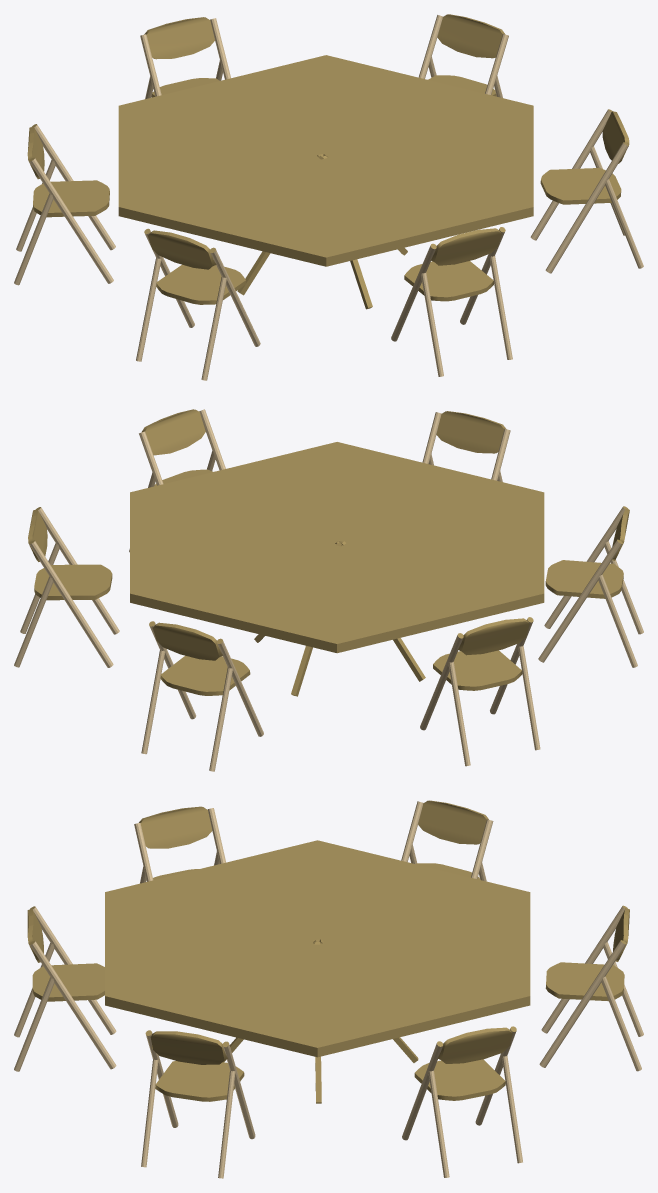
The model's file is HexTableSeated.fbx.
3 views of the same model, one above another, from view 1: azimuth 30°, elevation 25°; view 2: azimuth 150°, elevation 25°; view 3: azimuth 270°, elevation 25° (orthographic). The views are drawn at different scales.
Visible parts, largest first — view 1: HexTableSeated2; view 2: HexTableSeated2; view 3: HexTableSeated2.
Part boxes in pixels (x1,y1,x2,y2): HexTableSeated2: [14, 14, 643, 380]; HexTableSeated2: [14, 409, 643, 771]; HexTableSeated2: [14, 800, 643, 1178].
Size of the model in its own units: 11.26 by 2.99 by 11.69.
